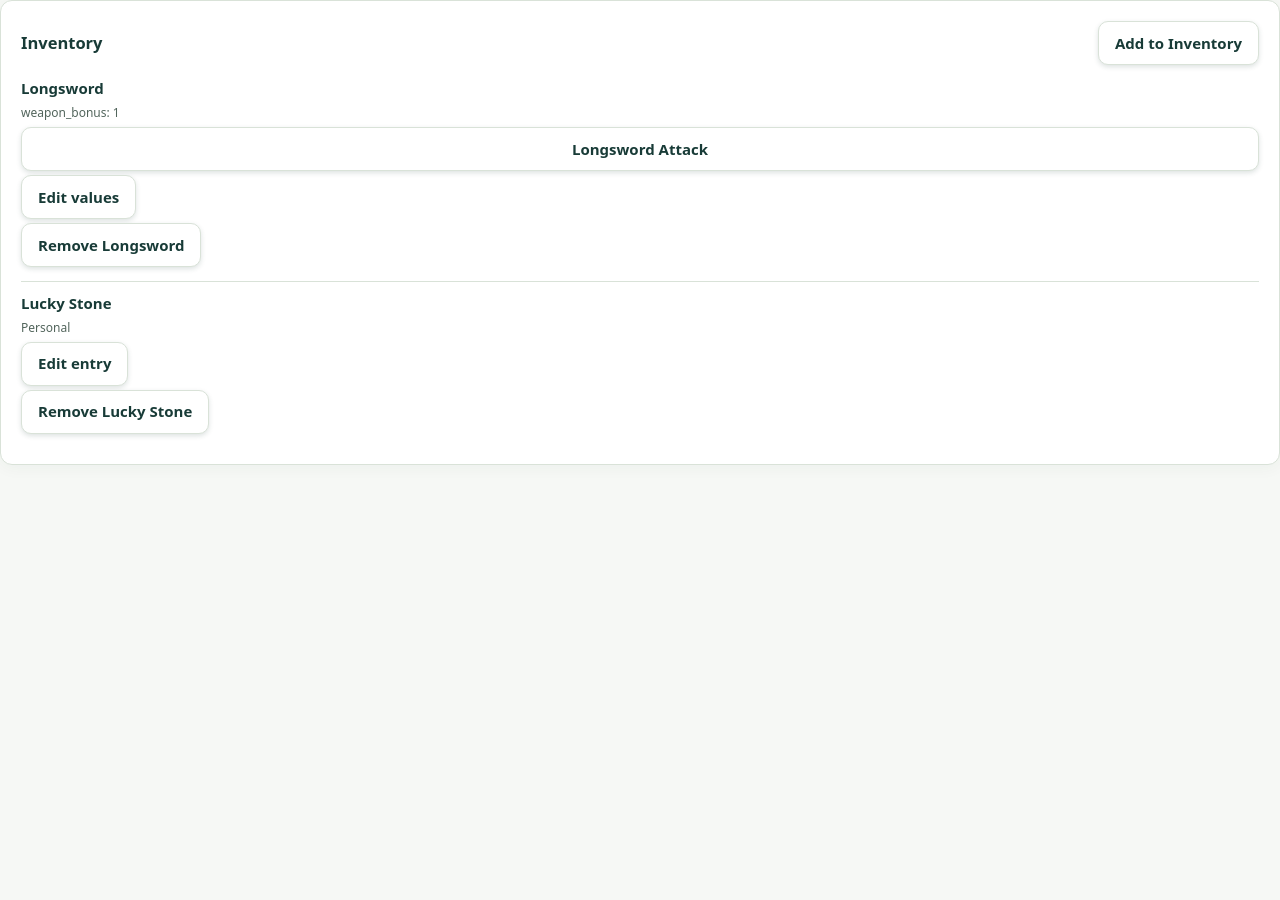
it: SlotListControl › keeps the personal form and data visible when saving fails
The width and height of the screenshot is (1280, 900).
Click the button with test id "slot-add-inventory".
click(1178, 43)  # box x1=1098 y1=21 x2=1259 y2=65
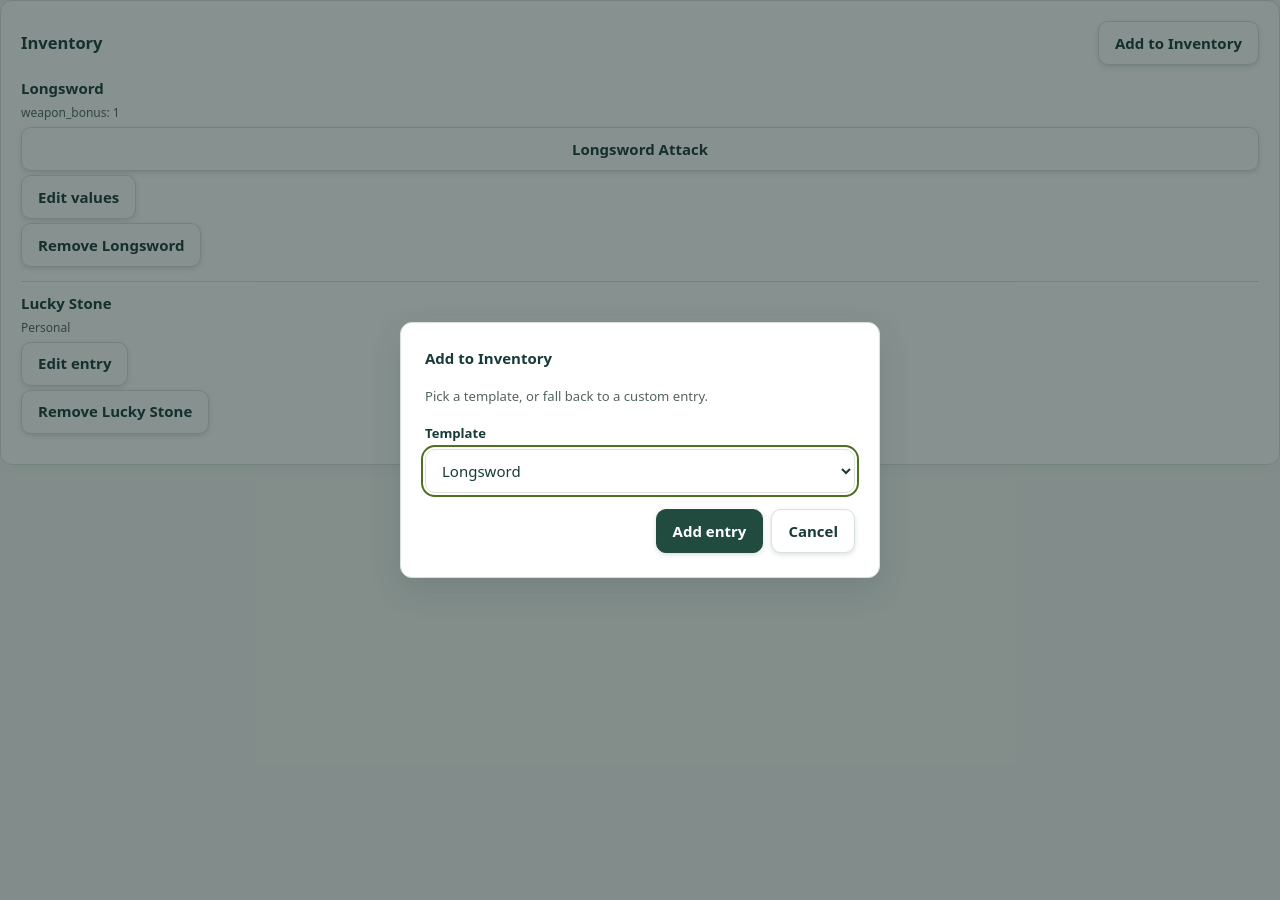
Select "Custom entry" in the dropdown with test id "slot-template-picker-inventory" at (640, 471), box x1=425 y1=449 x2=855 y2=493
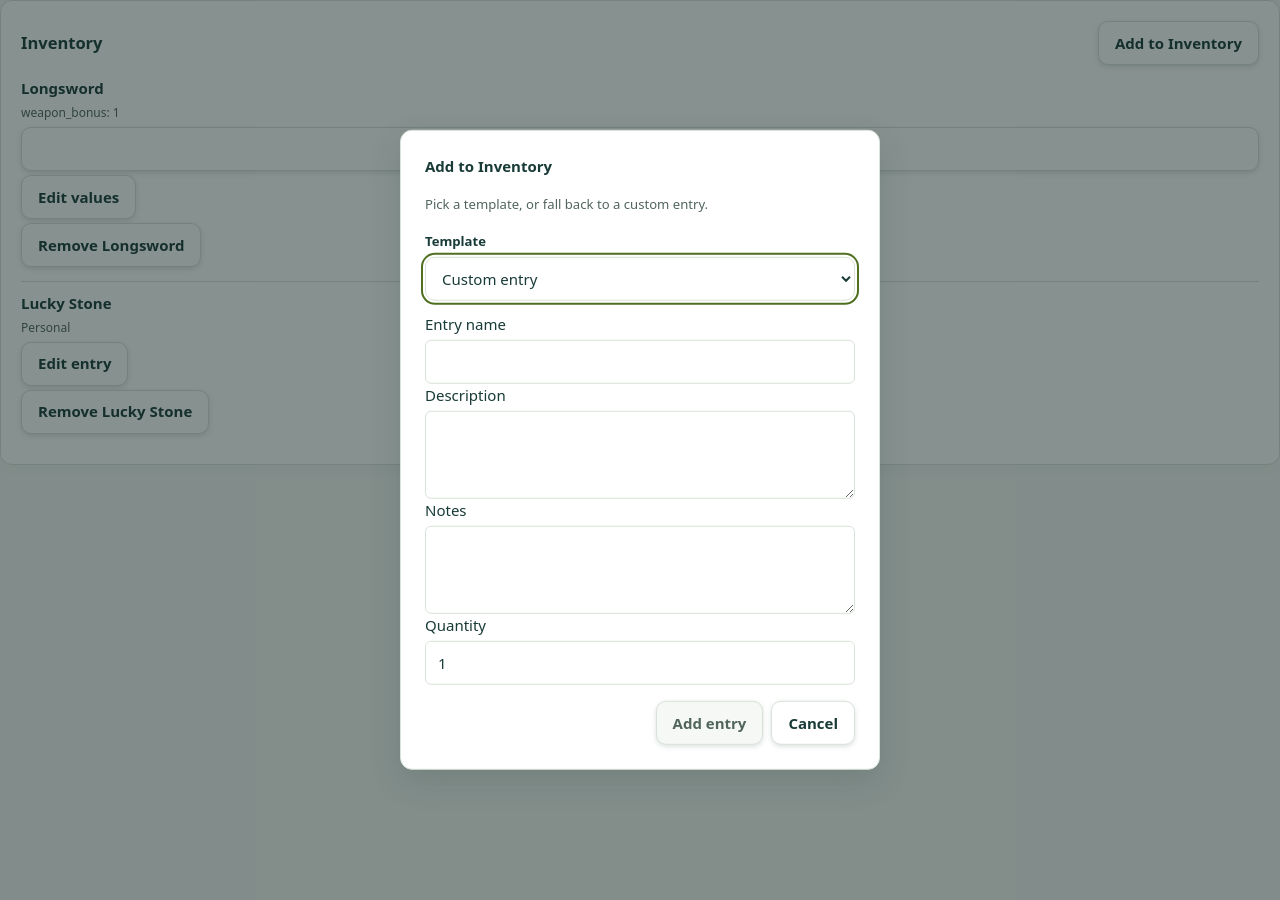
Type "Tower key" into the field labelled "Entry name".
click(640, 362); type("Tower key")  # box x1=425 y1=340 x2=855 y2=384
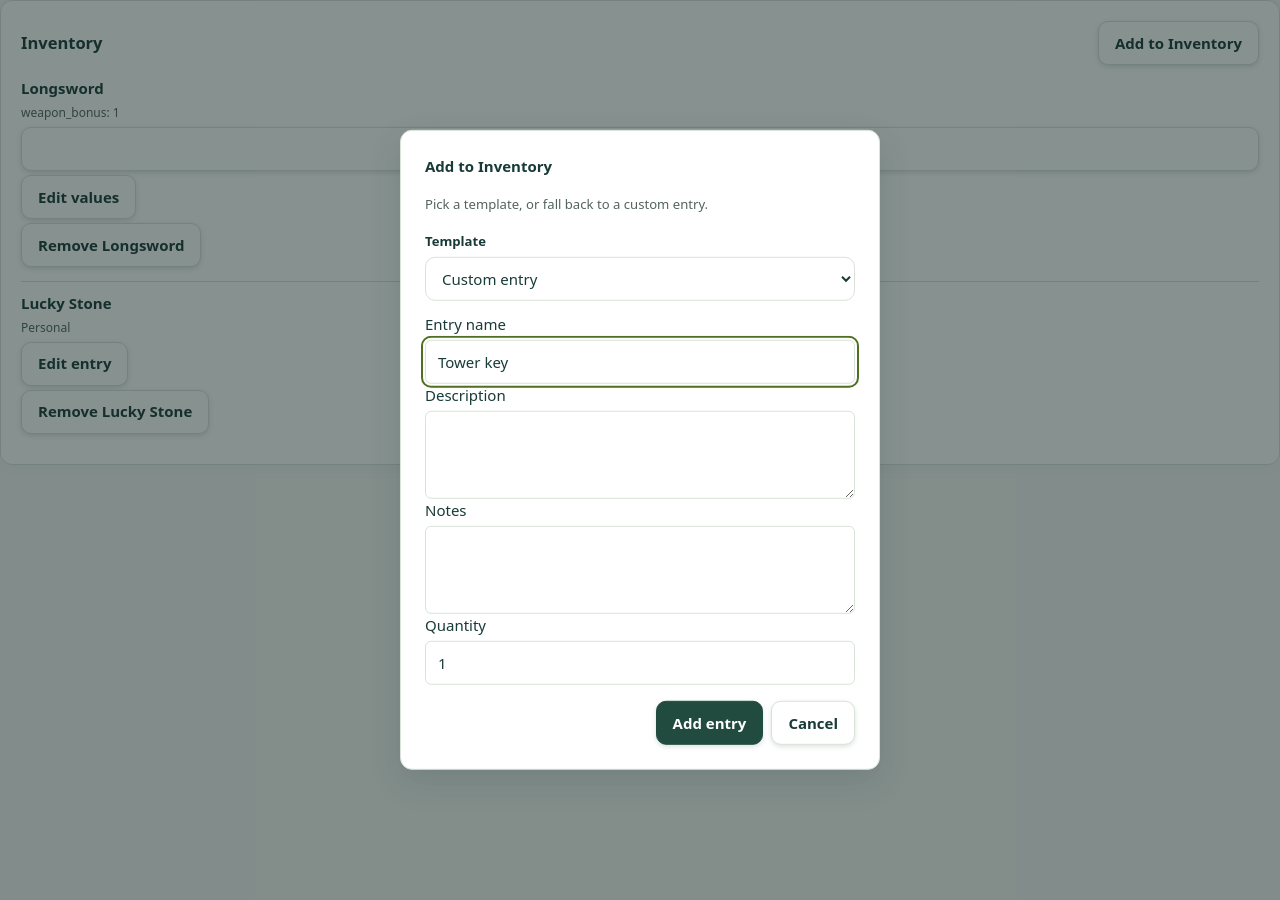
Replace the text in the number field labelled "Quantity" with "0" at (640, 663), box x1=425 y1=641 x2=855 y2=685
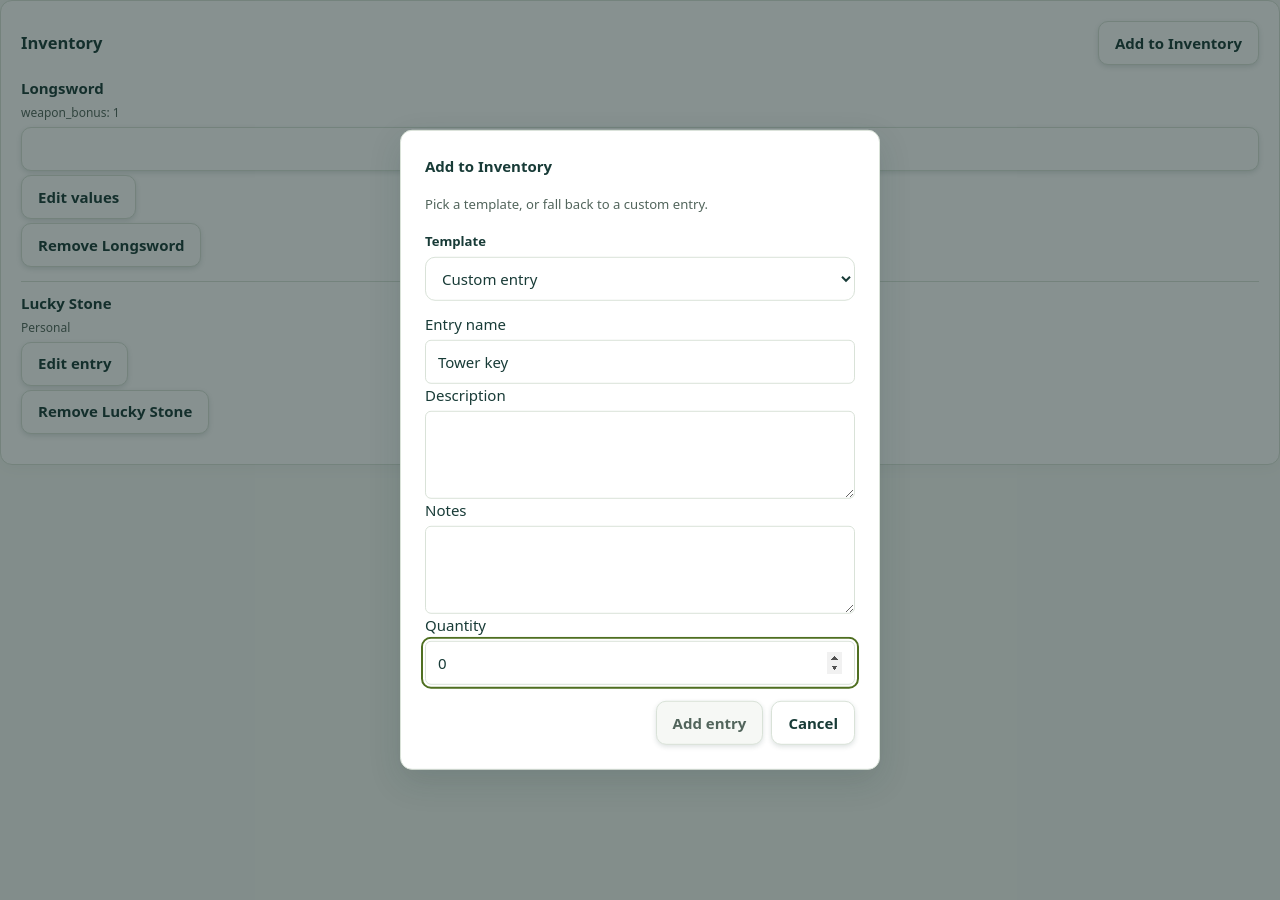
Expected: the button with test id "slot-add-confirm-inventory" is disabled, x1=656 y1=701 x2=763 y2=745
Replace the text in the number field labelled "Quantity" with "2" at (640, 663), box x1=425 y1=641 x2=855 y2=685
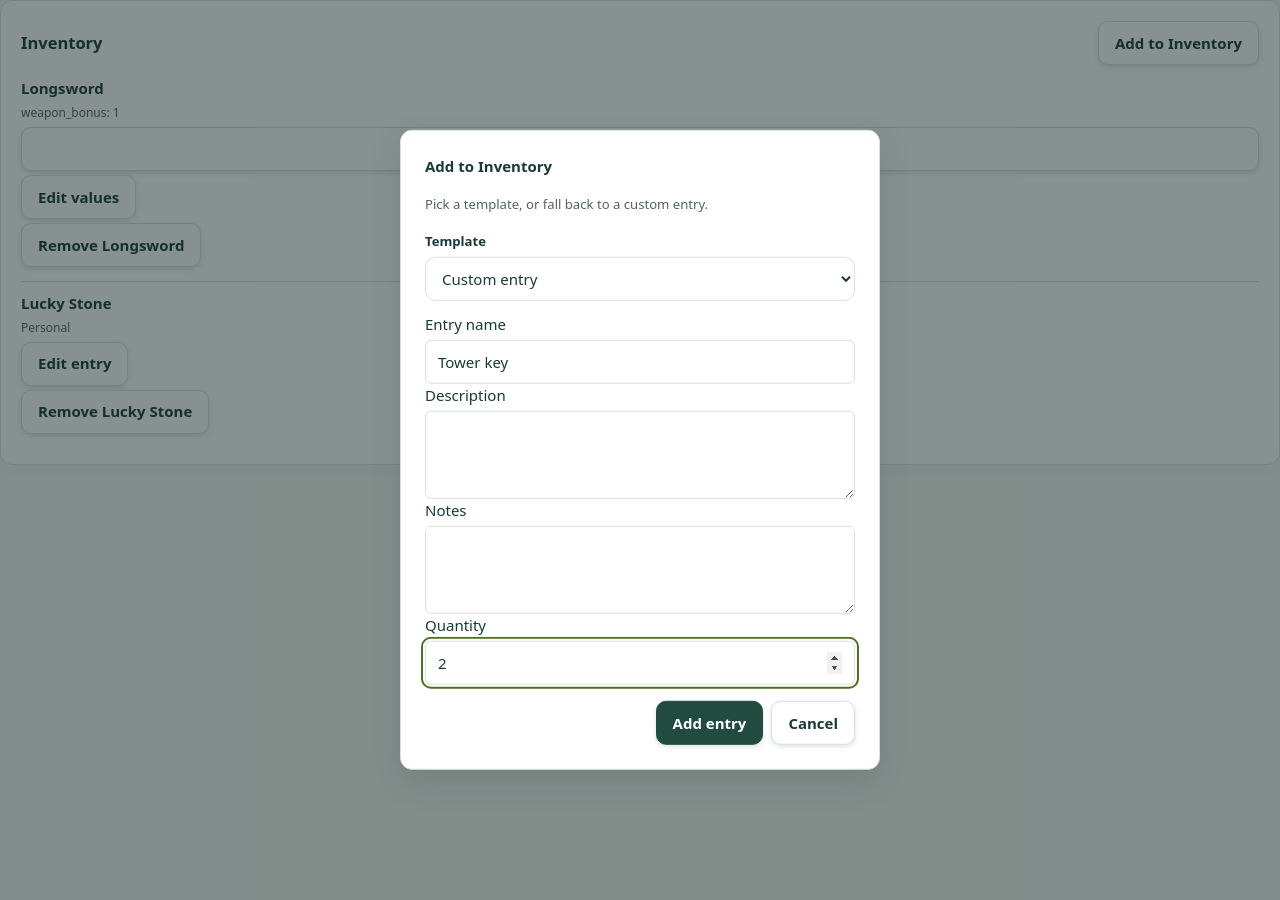
Click the button with test id "slot-add-confirm-inventory".
click(709, 723)  # box x1=656 y1=701 x2=763 y2=745
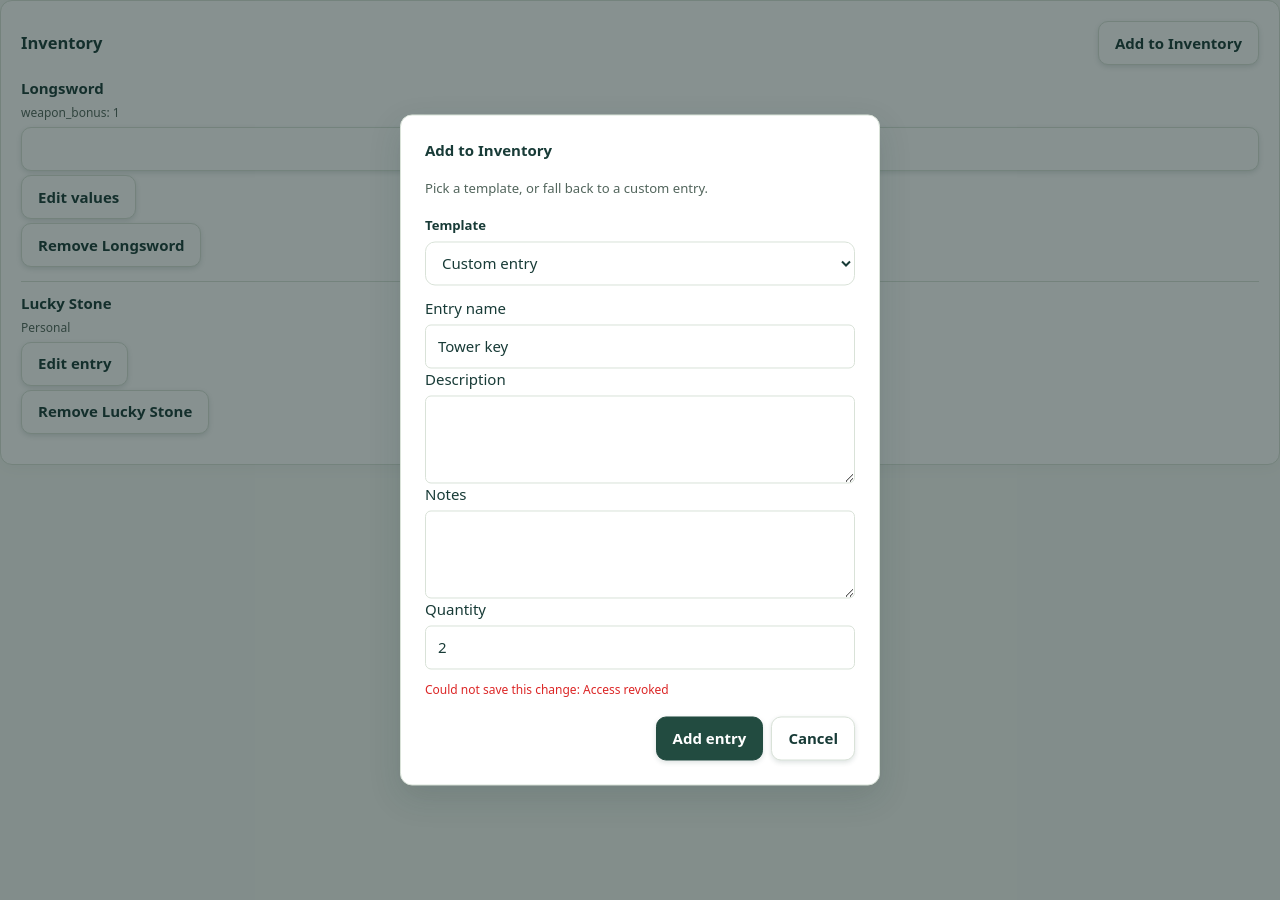
Expected: the dialog is shown, x1=400 y1=114 x2=880 y2=786
Expected: the message shows "Access revoked", x1=425 y1=682 x2=669 y2=699
